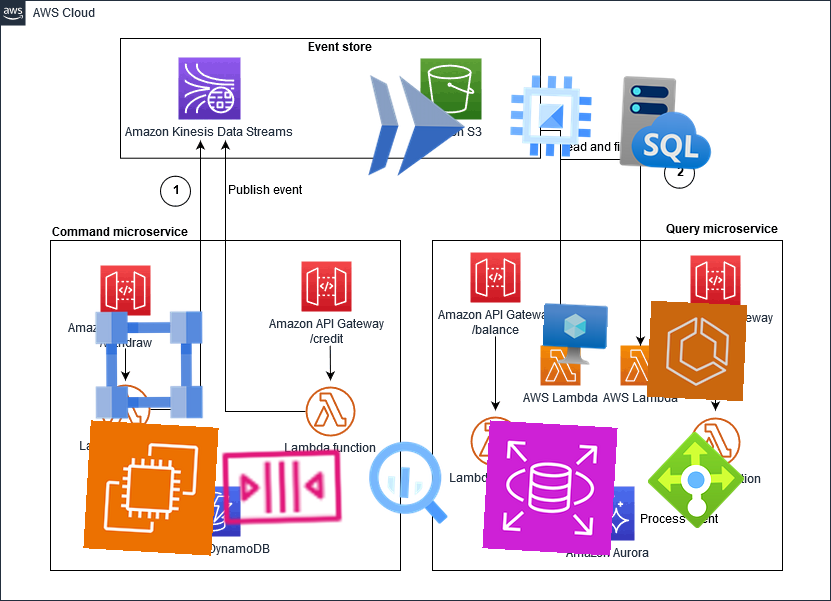aws_amazon_ec2: (83, 420, 219, 556)
aws_amazon_elastic_container_service: (646, 300, 748, 402)
aws_amazon_rds: (482, 420, 618, 556)
aws_simple_queue_service_queue: (216, 420, 348, 552)
azure_load_balancers: (646, 430, 746, 530)
azure_sql_managed_instance: (616, 72, 718, 174)
azure_virtual_machine: (541, 302, 609, 370)
gcp_bigquery: (358, 431, 460, 533)
gcp_cloud_run: (349, 60, 481, 192)
gcp_compute_engine: (501, 66, 601, 166)
gcp_virtual_private_cloud: (84, 300, 214, 430)
